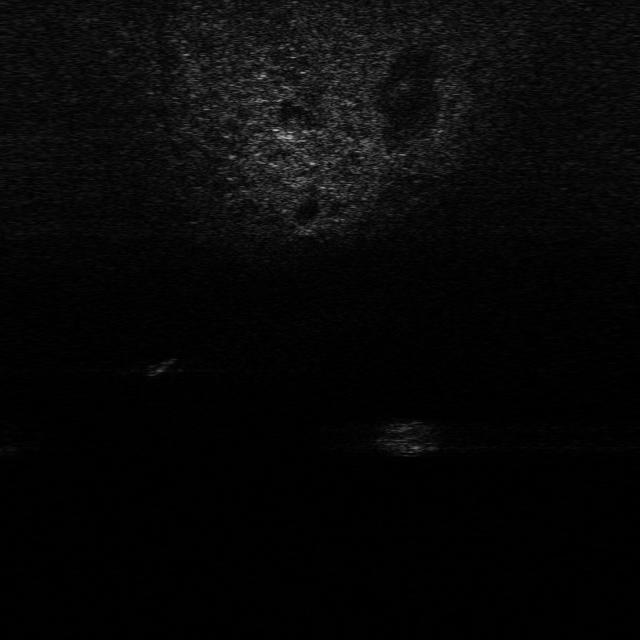circle cage: (370, 417, 450, 461)
cylinder: (134, 347, 193, 382)
